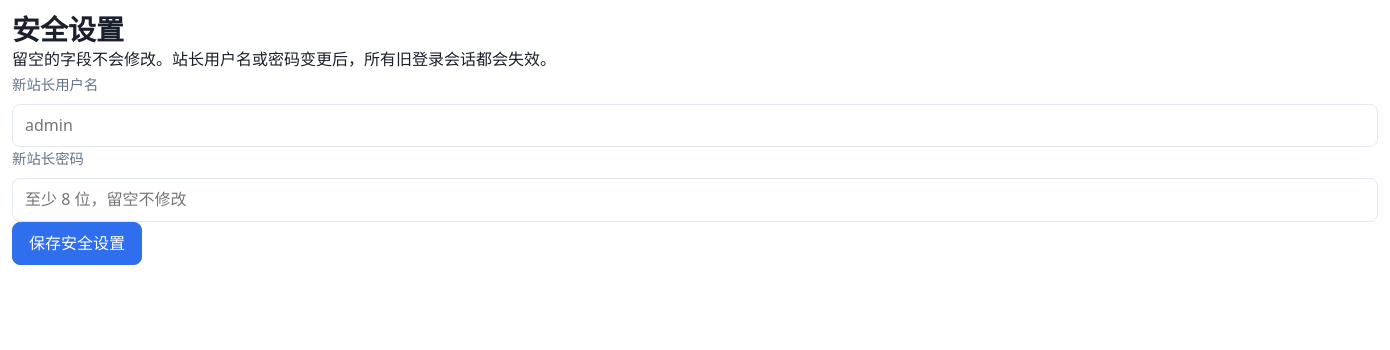
Test: AdminSettings › submits only the fields the administrator fills in
Expected: the field labelled "新站长用户名" is shown, [12,104,1378,147]
In the password field labelled "新站长密码": (695, 200) [12,178,1378,222], type "admin-new-password"
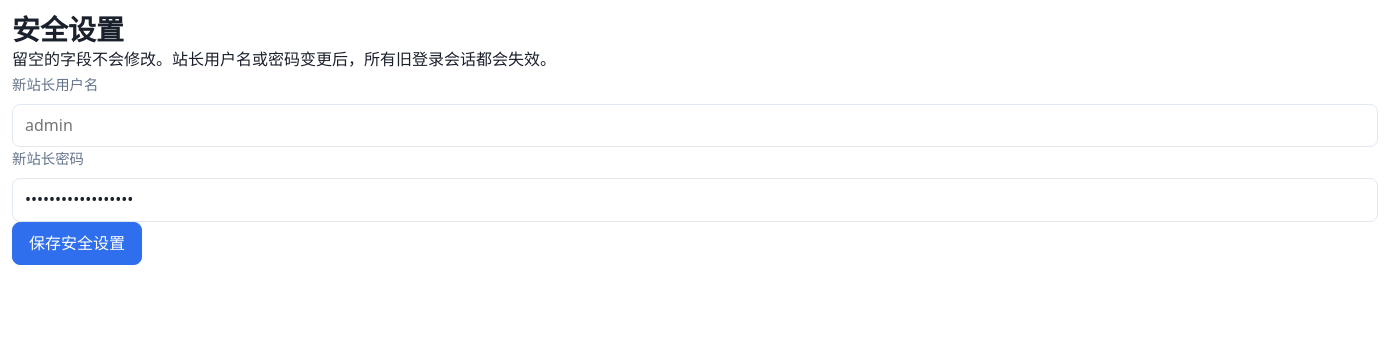
Click the button "保存安全设置": (77, 244) [12,222,142,266]
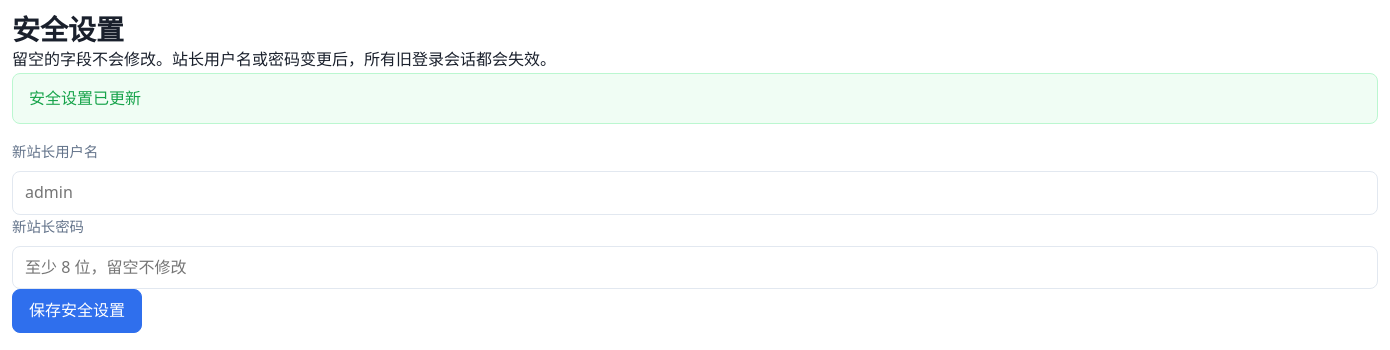
Expected: the message reads "安全设置已更新", [29,87,141,109]
